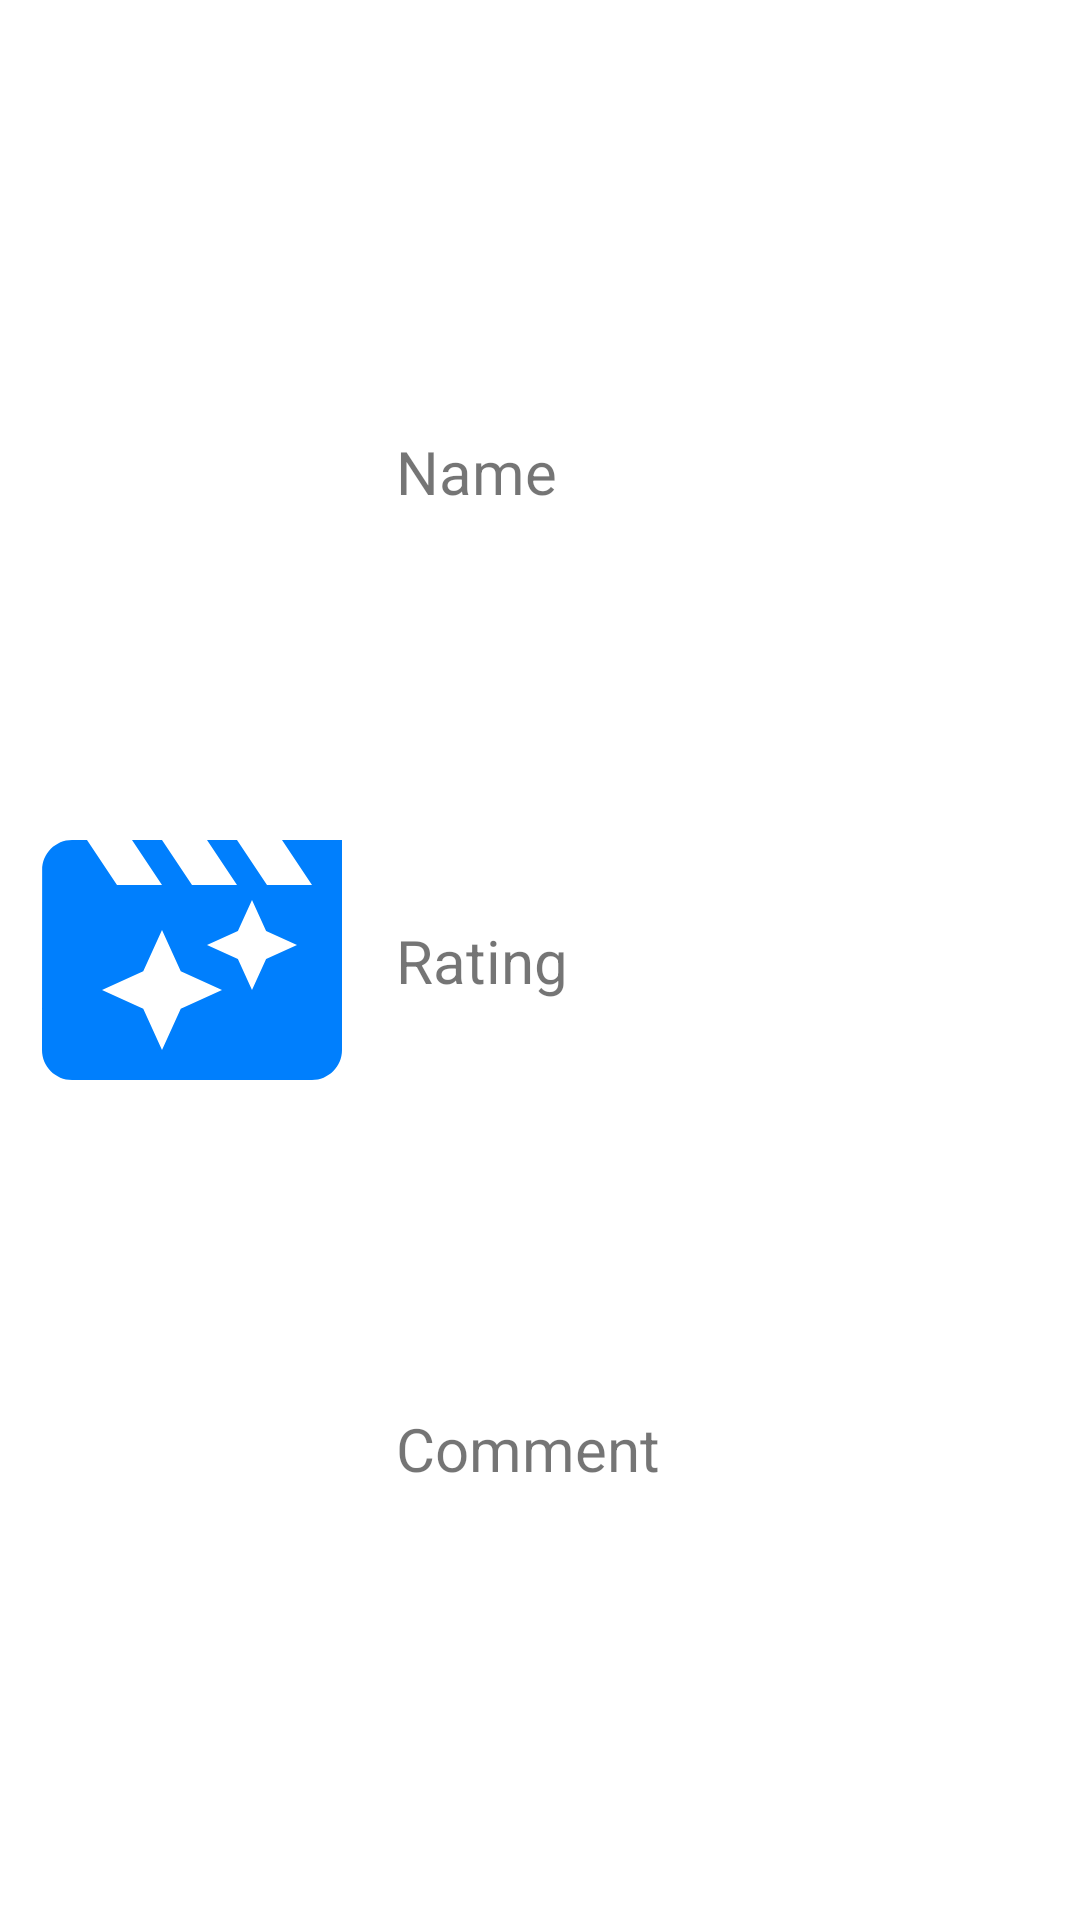

Icon bounding boxes for this 1080×1920 phone screenshot, format (left=x1, top=y1, right=x2, bottom=y2):
movie filter: (left=42, top=840, right=342, bottom=1080)
